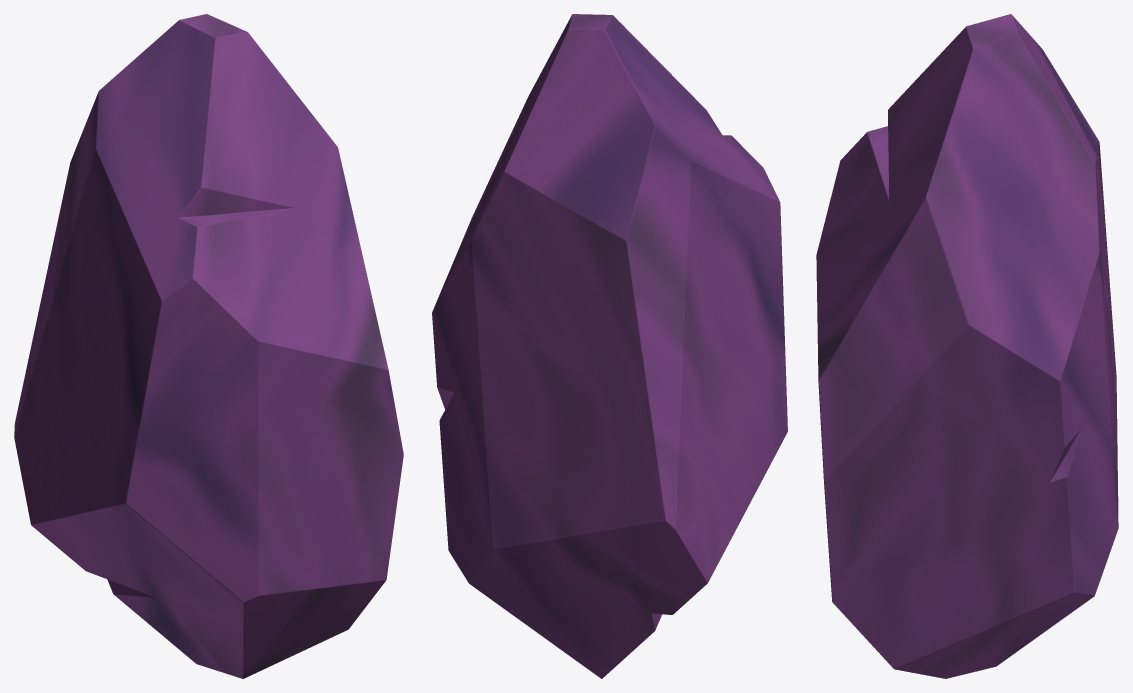
Rendered from Crystal.002.fbx.
3 views of the same model, side by side, from view 1: azimuth 30°, elevation 25°; view 2: azimuth 150°, elevation 25°; view 3: azimuth 270°, elevation 25° (orthographic). The views are drawn at different scales.
Parts seen in each view (by area): view 1: Crystal.002_Baked; view 2: Crystal.002_Baked; view 3: Crystal.002_Baked.
Boxes of the visible parts, box(x1,y1,x2,y2) form: Crystal.002_Baked: box(14, 14, 403, 678); Crystal.002_Baked: box(432, 14, 787, 678); Crystal.002_Baked: box(816, 14, 1118, 678).
Bounding box in the file's own units: 30.11 × 67.39 × 28.41.
1 material, 1 textured.
